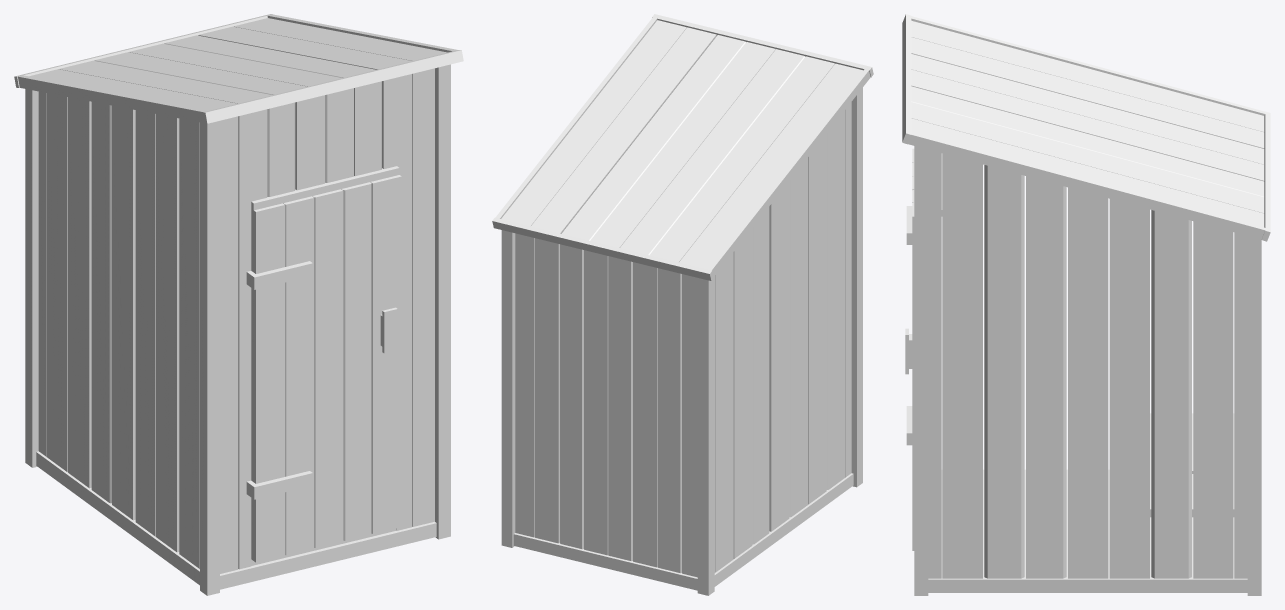
File: Bld_Outhouse_01.glb
3 renders of one model, left to right at view 1: azimuth 30°, elevation 25°; view 2: azimuth 150°, elevation 25°; view 3: azimuth 270°, elevation 25°, orthographic. The views are drawn at different scales.
Visible parts, largest first — view 1: Bld_Outhouse_01, Bld_Outhouse_Door_01; view 2: Bld_Outhouse_01; view 3: Bld_Outhouse_01, Bld_Outhouse_Door_01.
Part boxes in pixels (x1,y1,x2,y2): Bld_Outhouse_01: (14,14,463,595); Bld_Outhouse_Door_01: (246,175,401,562); Bld_Outhouse_01: (492,14,873,595); Bld_Outhouse_01: (902,14,1270,595); Bld_Outhouse_Door_01: (905,148,914,550).
Bounding box in the file's own units: 1.35 × 2.46 × 1.76.
Materials: 1 (1 with a texture image).
